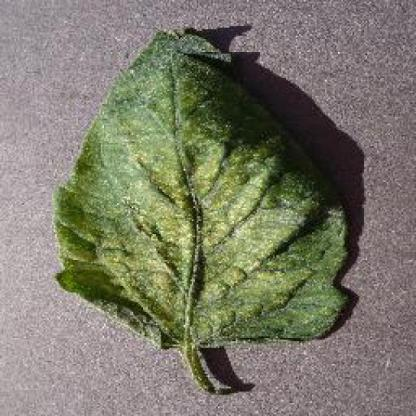Strawberry_Blossom_Blight: (188, 282, 230, 334), (235, 157, 274, 212), (119, 122, 157, 173), (236, 231, 275, 268), (286, 201, 310, 230)
